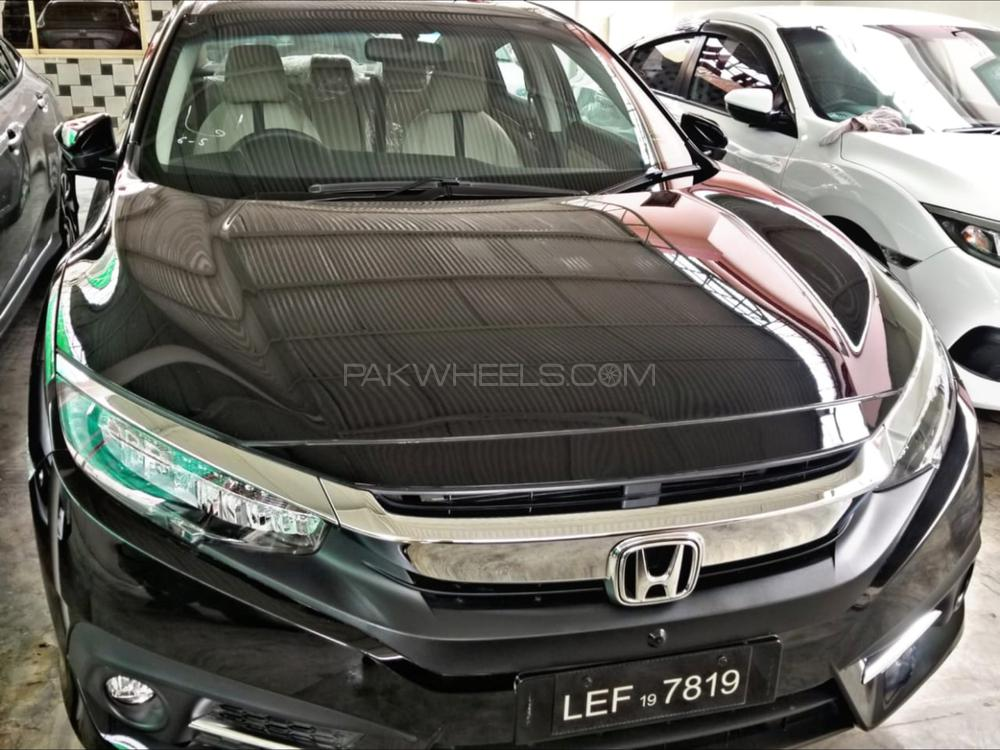license plate: (550, 665, 750, 725)
